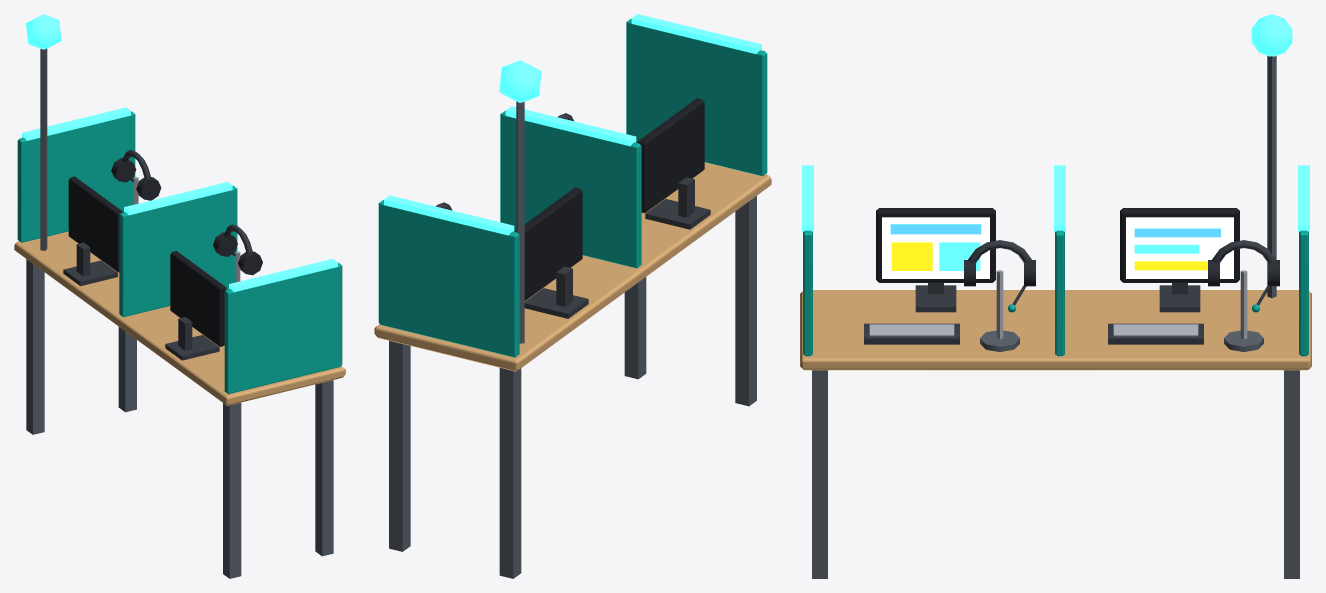
Rendered from station_intake_ausstattung_2_3.glb.
3 renders of one model, left to right at view 1: azimuth 30°, elevation 25°; view 2: azimuth 150°, elevation 25°; view 3: azimuth 270°, elevation 25°, orthographic. The views are drawn at different scales.
Parts seen in each view (by area): view 1: station_intake_ausstattung_2_3; view 2: station_intake_ausstattung_2_3; view 3: station_intake_ausstattung_2_3.
Boxes of the visible parts, left/top/right/bottom form: station_intake_ausstattung_2_3: left=14, top=14, right=345, bottom=578; station_intake_ausstattung_2_3: left=374, top=14, right=771, bottom=578; station_intake_ausstattung_2_3: left=800, top=14, right=1311, bottom=578.
Size of the model in its own units: 0.4237 by 1.4 by 1.28.
